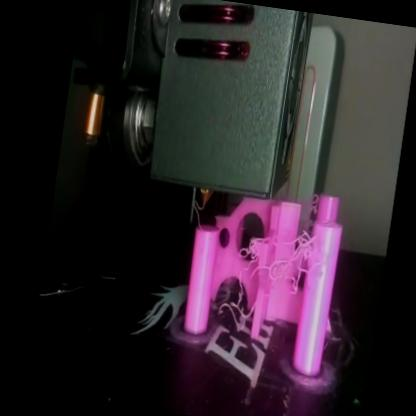fail: (270, 230, 325, 303), (235, 235, 269, 289)
